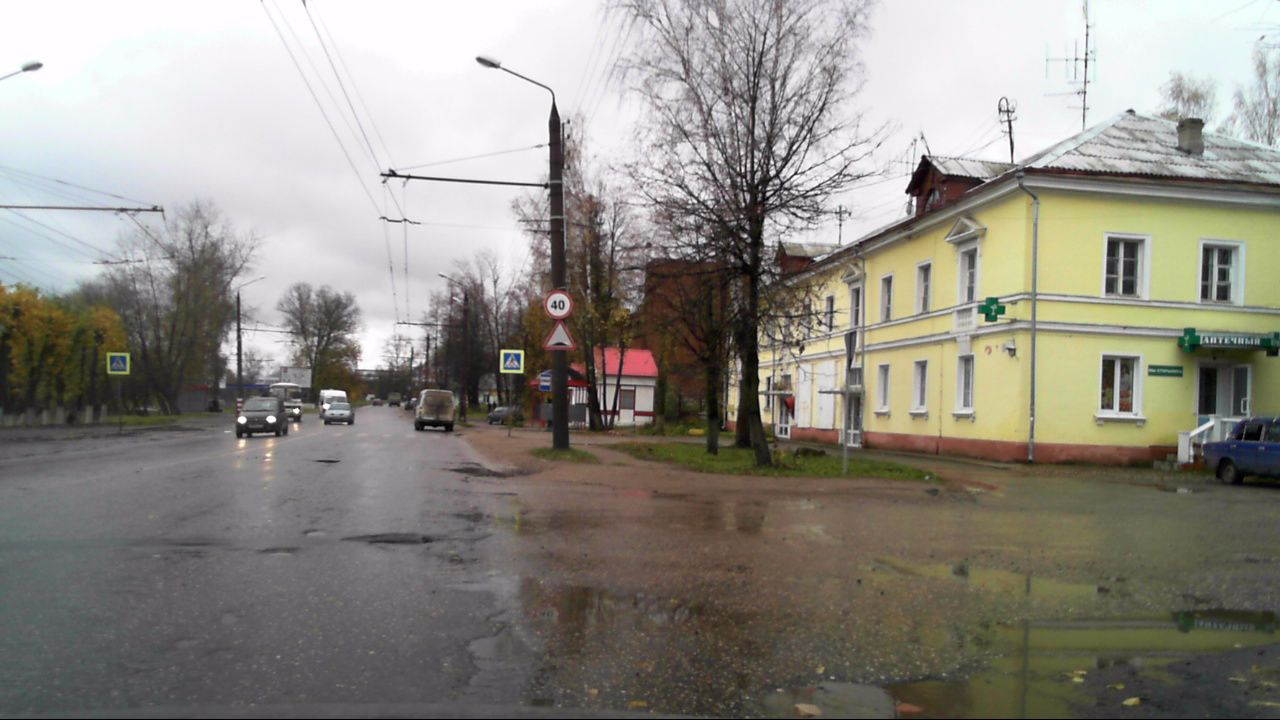speed_warning_40: (544, 288, 573, 320)
